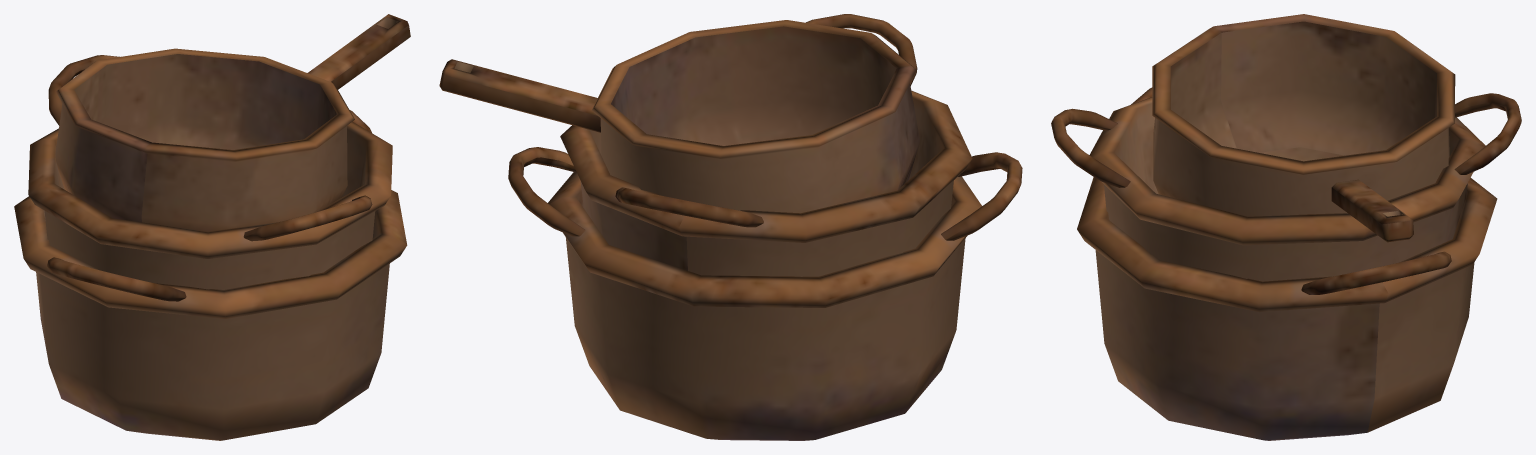
File: a stack of troughs 2.fbx
3 renders of one model, left to right at view 1: azimuth 30°, elevation 25°; view 2: azimuth 150°, elevation 25°; view 3: azimuth 270°, elevation 25°, orthographic. The views are drawn at different scales.
Visible parts, largest first — view 1: Strove.008; view 2: Strove.008; view 3: Strove.008.
Boxes of the visible parts, x1=… form: Strove.008: x1=14, y1=14, x2=410, y2=440; Strove.008: x1=439, y1=14, x2=1022, y2=440; Strove.008: x1=1051, y1=14, x2=1521, y2=440.
Bounding box in the file's own units: 43.83 × 28.5 × 38.7.
Materials: 1 (1 with a texture image).
